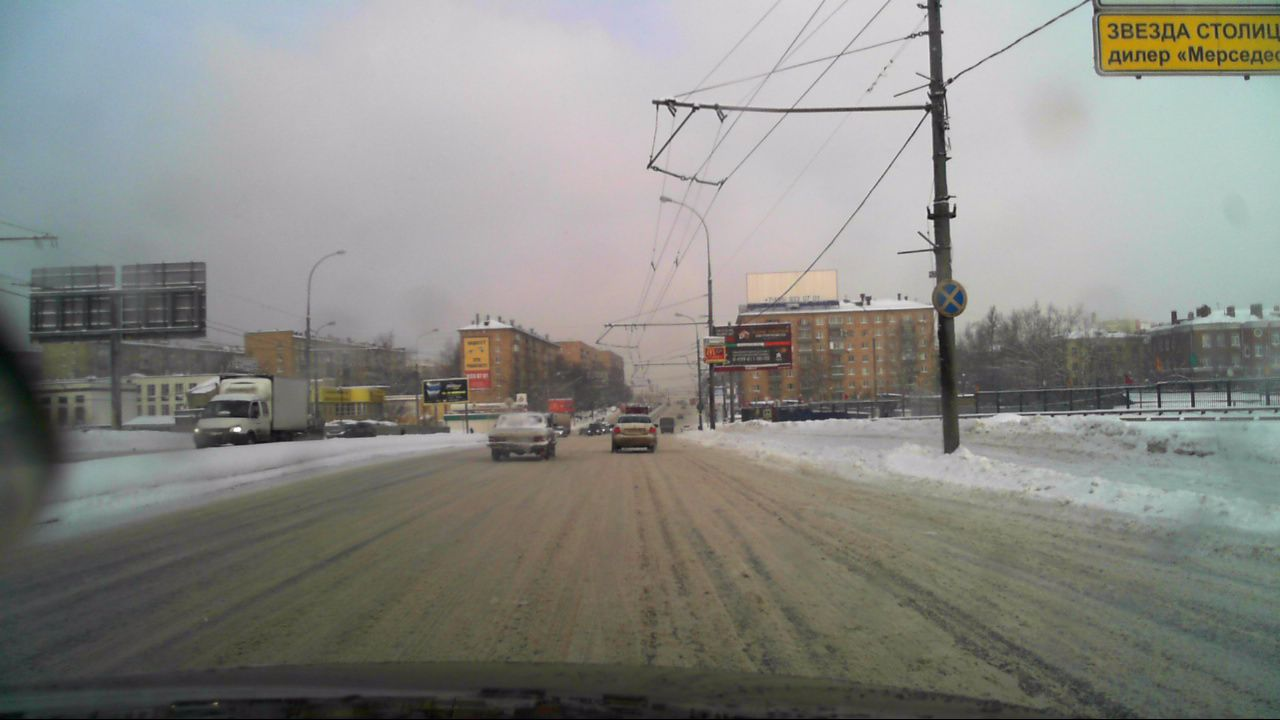No Parking: (930, 274, 973, 319)
